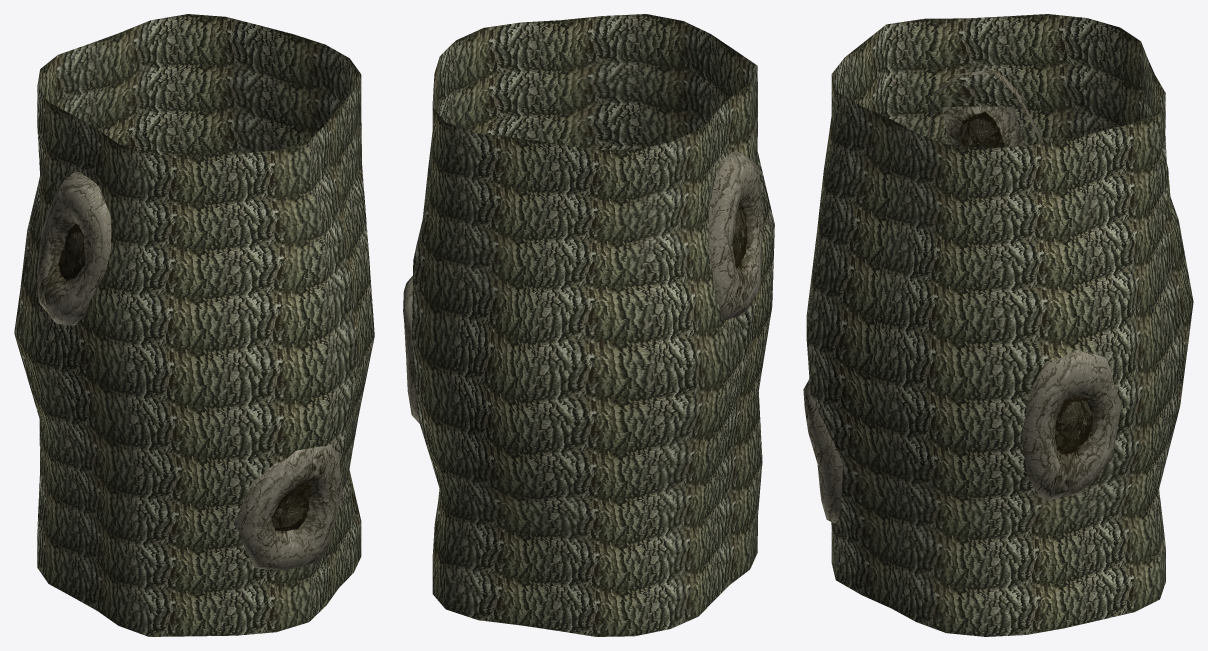
File: Stump14.fbx
The picture shows the model from 3 angles, left to right: view 1: azimuth 30°, elevation 25°; view 2: azimuth 150°, elevation 25°; view 3: azimuth 270°, elevation 25°; orthographic projection.
Parts seen in each view (by area): view 1: Stump14; view 2: Stump14; view 3: Stump14.
Part boxes in pixels (left/top/right/bottom): Stump14: left=14, top=14, right=374, bottom=636; Stump14: left=403, top=14, right=774, bottom=636; Stump14: left=803, top=14, right=1193, bottom=636.
Size of the model in its own units: 13.48 by 20 by 14.47.
Materials: 2 (2 with a texture image).
